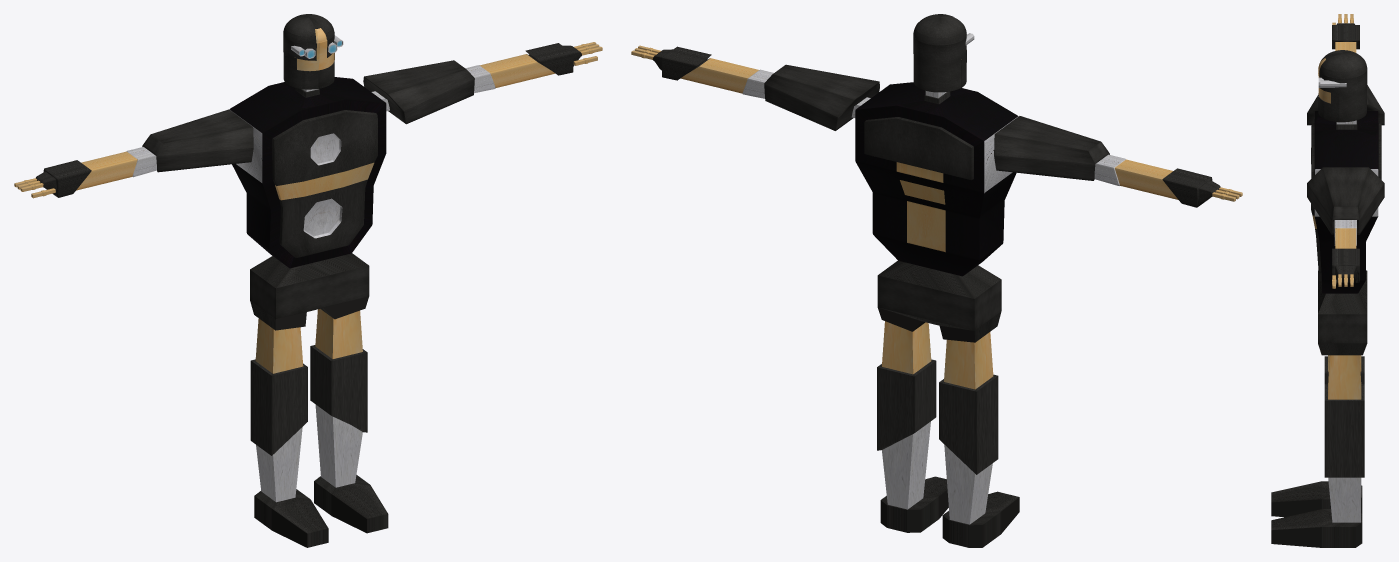
File: aristaeus_good.fbx
3 views of the same model, side by side, from view 1: azimuth 30°, elevation 25°; view 2: azimuth 150°, elevation 25°; view 3: azimuth 270°, elevation 25° (orthographic). The views are drawn at different scales.
Visible parts, largest first — view 1: Torso001, Legs001, RightArm001, LeftArm001, Hips001, Head001; view 2: Torso001, Legs001, RightArm001, LeftArm001, Hips001, Head001; view 3: Legs001, Torso001, LeftArm001, Hips001, Head001, RightArm001, EyeFrames.
Part boxes in pixels (x1,y1,x2,y2): Torso001: [229, 77, 389, 268]; Legs001: [250, 309, 388, 547]; RightArm001: [14, 109, 253, 198]; LeftArm001: [363, 42, 602, 124]; Hips001: [250, 253, 369, 330]; Head001: [283, 14, 334, 89]; Torso001: [851, 82, 1018, 276]; Legs001: [877, 321, 1019, 547]; RightArm001: [994, 116, 1242, 207]; LeftArm001: [631, 45, 879, 130]; Hips001: [877, 260, 1001, 342]; Head001: [913, 14, 966, 92]; Legs001: [1271, 355, 1364, 547]; Torso001: [1311, 111, 1381, 293]; LeftArm001: [1307, 167, 1384, 288]; Hips001: [1318, 270, 1367, 355]; Head001: [1318, 50, 1367, 122]; RightArm001: [1307, 14, 1384, 125]; EyeFrames: [1318, 77, 1346, 87].
Bounding box in the file's own units: 28.16 × 22.89 × 4.99.
Materials: 5 (5 with a texture image).
